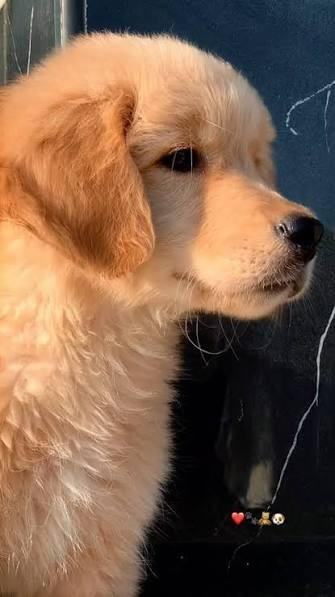puppy-dog: (0, 28, 327, 597)
